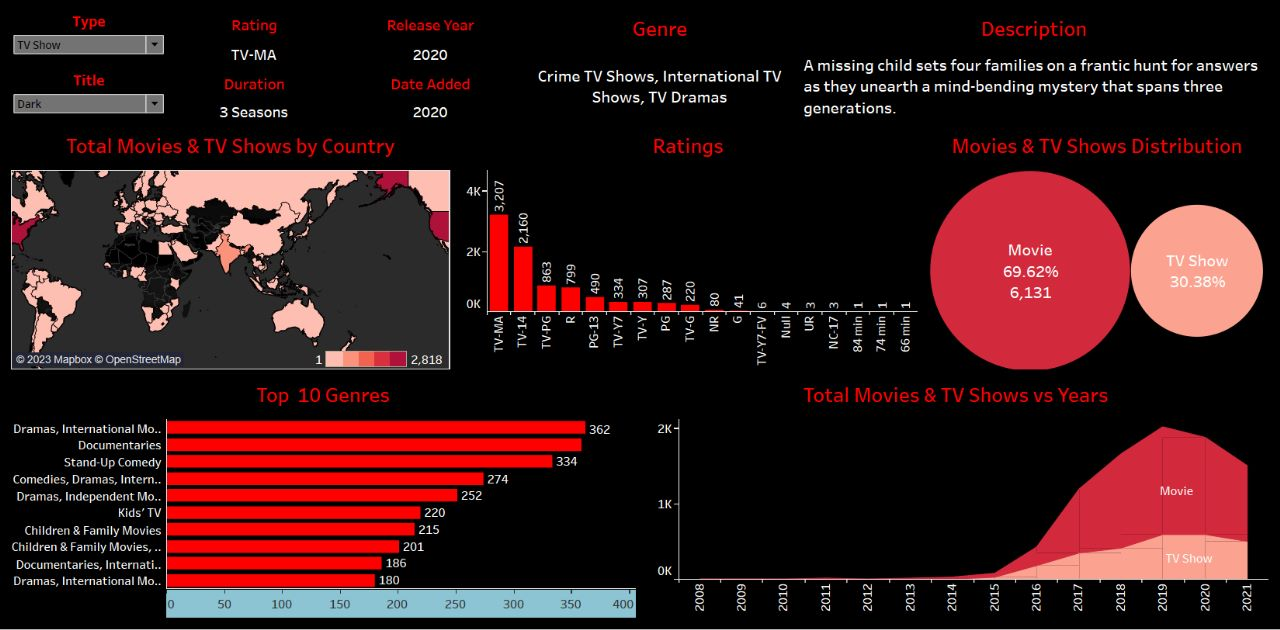

The dashboard page shown, as its layout file describes it:
{"tool":"tableau","page":{"name":"Netflix","canvas":[1320,650],"ordinal":0},"visuals":[{"type":"filter","title":"Description","param":"[federated.1ndnec51uddtcx1bwgghy1l2c68g].[none:type:nk]","box":[8,8,168.7,60.5]},{"type":"worksheet","title":"Rating","mark":"Automatic","box":[176.7,8,171.7,60.5]},{"type":"worksheet","title":"Release Year","mark":"Automatic","box":[348.4,8,192.6,60.5]},{"type":"worksheet","title":"Genre","mark":"Automatic","box":[541,8,280,121]},{"type":"worksheet","title":"Description","mark":"Automatic","box":[821,8,491,121]},{"type":"filter","title":"Description","param":"[federated.1ndnec51uddtcx1bwgghy1l2c68g].[none:title:nk]","box":[8,68.5,168.7,60.5]},{"type":"worksheet","title":"Duration","mark":"Automatic","box":[176.7,68.5,171.7,60.5]},{"type":"worksheet","title":"Date Added","mark":"Automatic","box":[348.4,68.5,192.6,60.5]},{"type":"worksheet","title":"Total Movies & TV Shows by Country","mark":"Multipolygon","box":[8,129,461,256.5]},{"type":"worksheet","title":"Ratings","mark":"Bar","rows":["show_id"],"cols":["rating"],"box":[469,129,482,256.5]},{"type":"worksheet","title":"Movies & TV Shows Distribution","mark":"Circle","box":[951,129,361,256.5]},{"type":"legend","title":"Total Movies & TV Shows by Country","param":"[federated.1ndnec51uddtcx1bwgghy1l2c68g].[ctd:show_id:qk]","box":[322,359,140,76]},{"type":"worksheet","title":"Top 10 Genres","mark":"Bar","rows":["listed_in"],"cols":["show_id"],"box":[8,385.5,651.9,256.5]},{"type":"worksheet","title":"Total Movies & TV Shows vs Years","mark":"Area","rows":["show_id"],"cols":["date_added"],"box":[659.9,385.5,652.1,256.5]}]}

Visuals, with their boxes in screenshot pixels (x1, y1, x2, y2), scaled from the page's 1320x650 canvas onto the 1280x630 screenshot:
"Description" filter: locate(8, 8, 171, 66)
"Rating" worksheet: locate(171, 8, 338, 66)
"Release Year" worksheet: locate(338, 8, 525, 66)
"Genre" worksheet: locate(525, 8, 796, 125)
"Description" worksheet: locate(796, 8, 1272, 125)
"Description" filter: locate(8, 66, 171, 125)
"Duration" worksheet: locate(171, 66, 338, 125)
"Date Added" worksheet: locate(338, 66, 525, 125)
"Total Movies & TV Shows by Country" worksheet (Multipolygon marks): locate(8, 125, 455, 374)
"Ratings" worksheet (Bar marks): locate(455, 125, 922, 374)
"Movies & TV Shows Distribution" worksheet (Circle marks): locate(922, 125, 1272, 374)
"Total Movies & TV Shows by Country" legend: locate(312, 348, 448, 422)
"Top 10 Genres" worksheet (Bar marks): locate(8, 374, 640, 622)
"Total Movies & TV Shows vs Years" worksheet (Area marks): locate(640, 374, 1272, 622)
